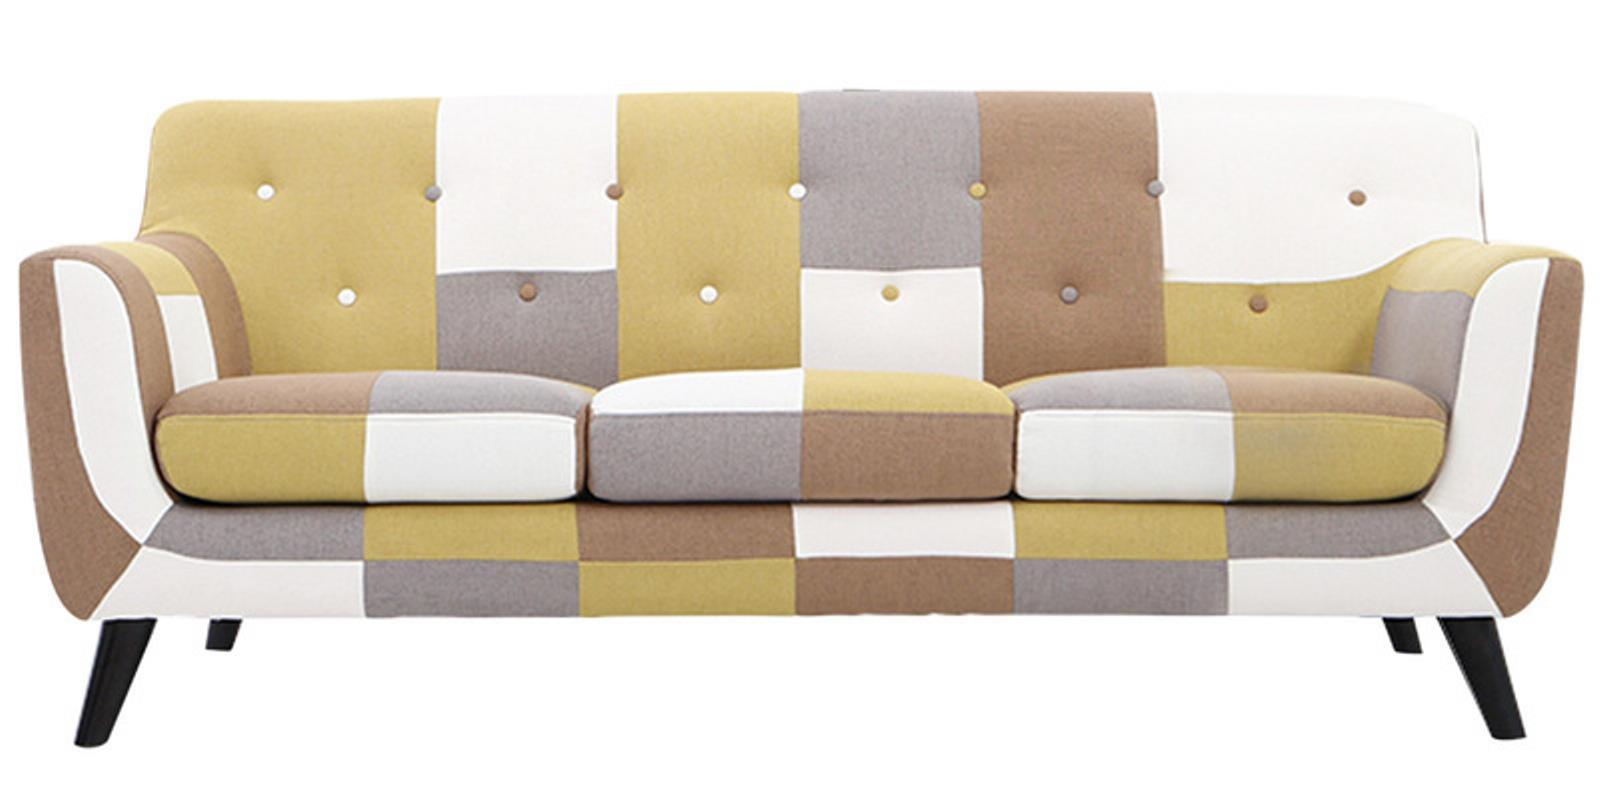Frida Three Seater Sofa in Yellow Multi Colour by CasaCraft: (12, 84, 1594, 766)
